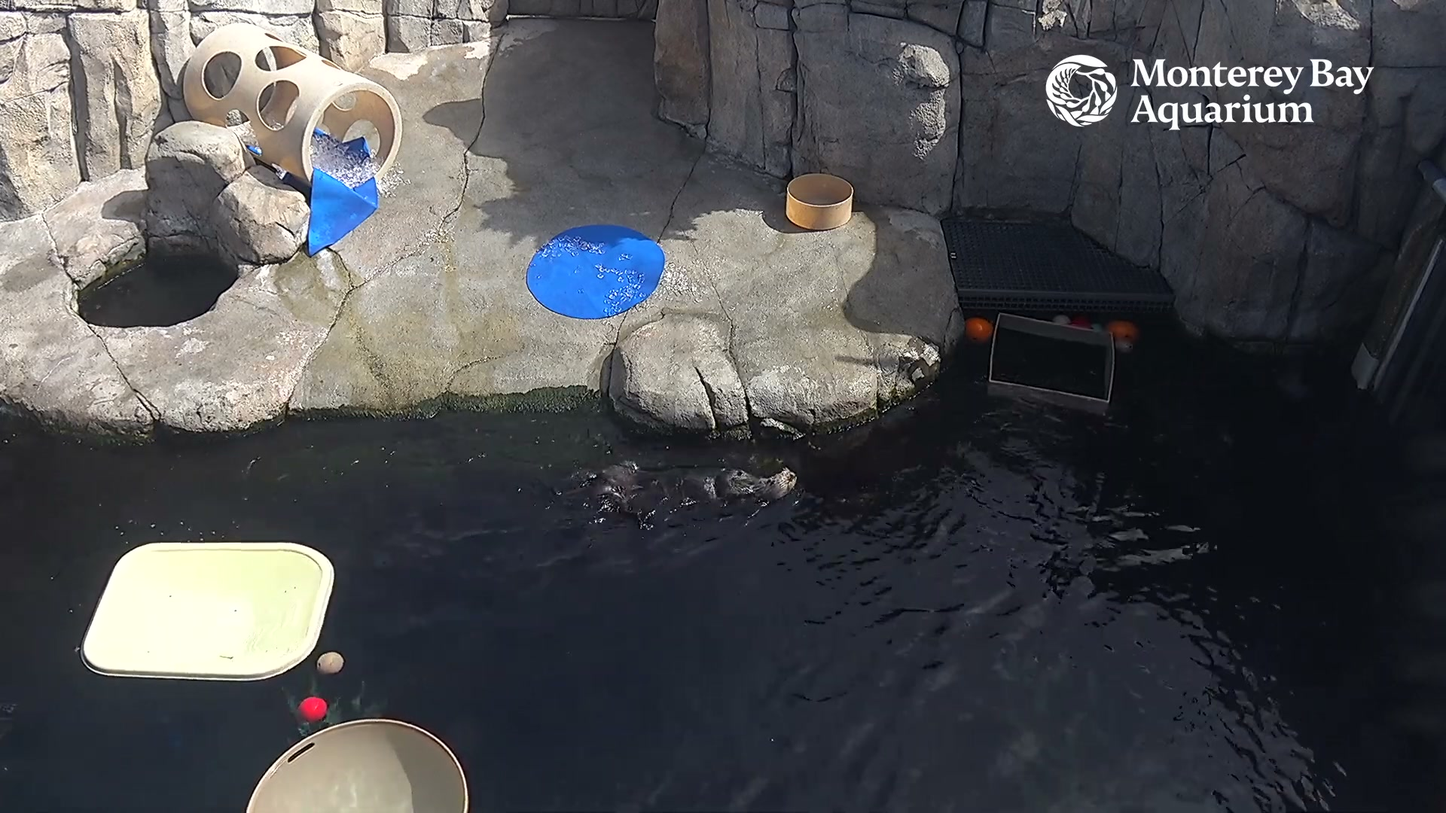Southern Sea Otter: (541, 422, 826, 538)
